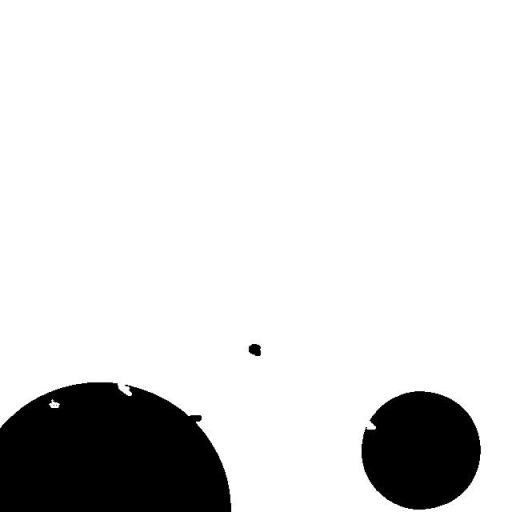copper: (241, 336, 268, 363)
mousebite: (110, 374, 139, 404), (358, 412, 384, 437)
pin-hole: (41, 391, 67, 415)
spur: (180, 407, 209, 432)
